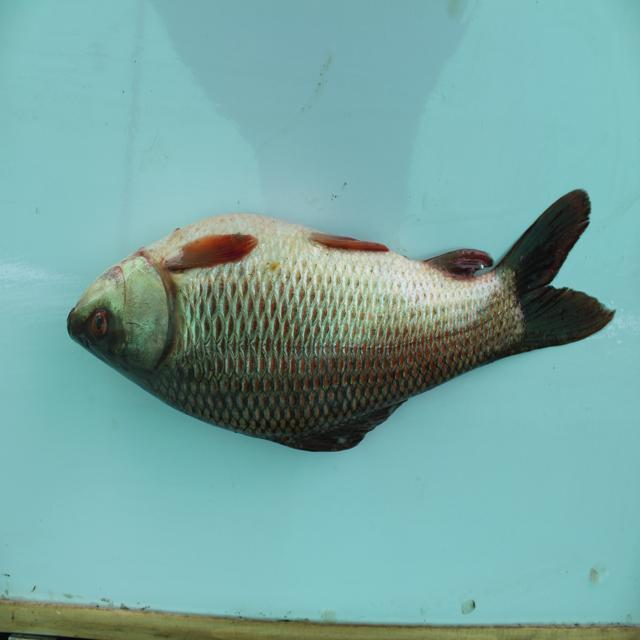Rohu: (40, 178, 614, 449)
